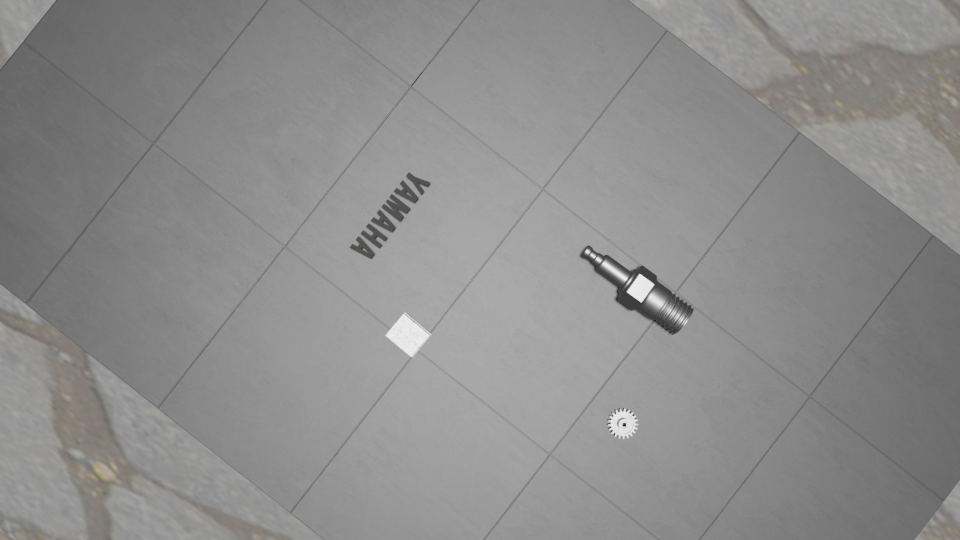yamaha_letters: (348, 171, 430, 259)
